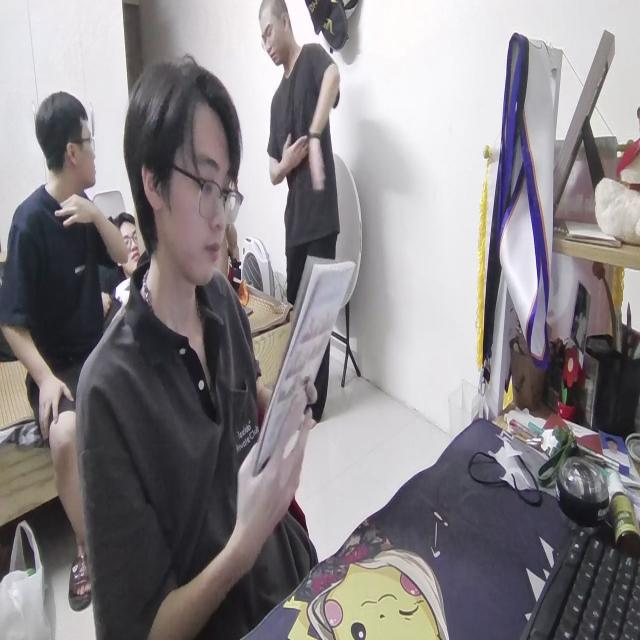book: (256, 243, 362, 477)
extra_person: (3, 91, 124, 598), (254, 2, 350, 316)
student: (74, 52, 316, 640)
